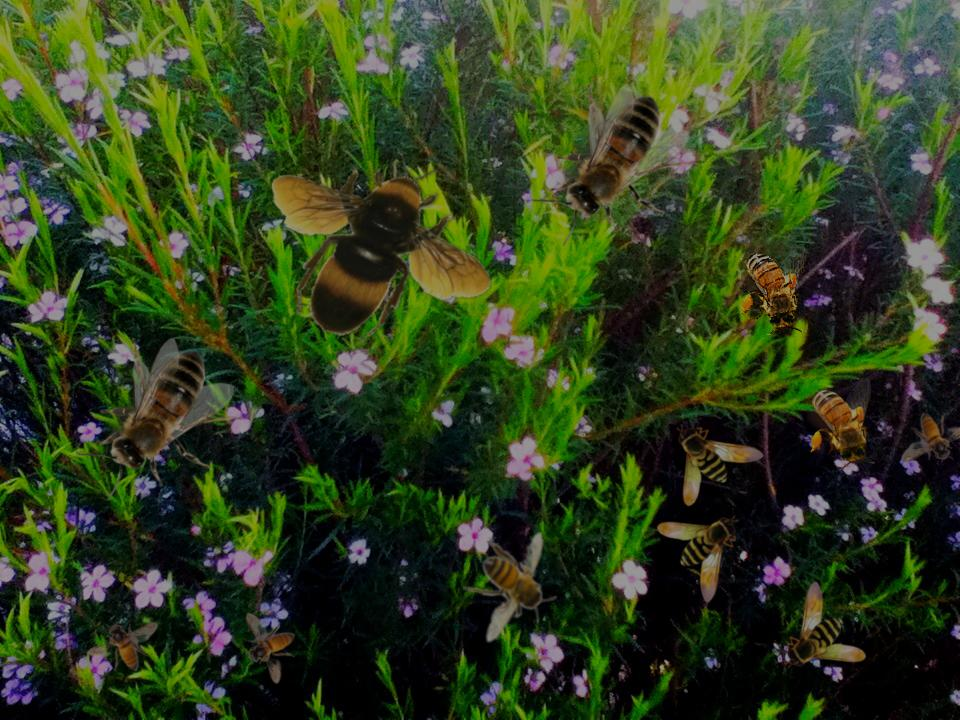Bee: (272, 152, 492, 343), (76, 338, 243, 500), (531, 84, 698, 246), (463, 532, 557, 643), (735, 239, 811, 338), (784, 581, 866, 669), (657, 515, 739, 603), (676, 424, 764, 506), (807, 377, 875, 470), (87, 621, 158, 671), (245, 613, 295, 684), (901, 413, 960, 463)
